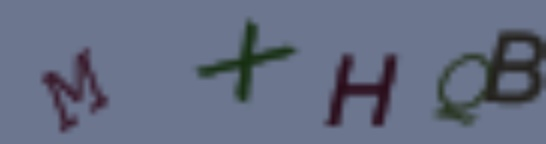B: (485, 20, 546, 106)
H: (324, 49, 405, 133)
M: (40, 43, 114, 135)
Q: (430, 51, 494, 126)
X: (192, 16, 298, 107)
